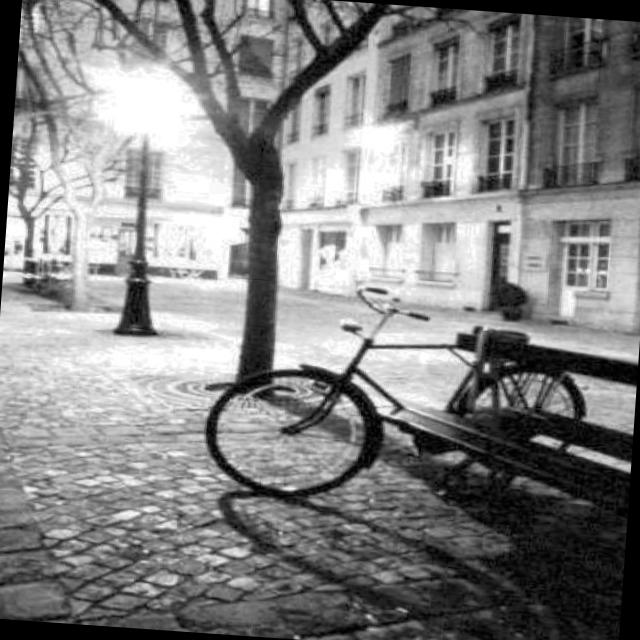Bicycle: (178, 266, 542, 513)
